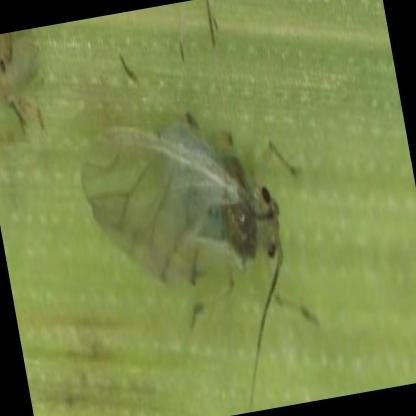schizaphis graminum: (79, 115, 282, 294)
